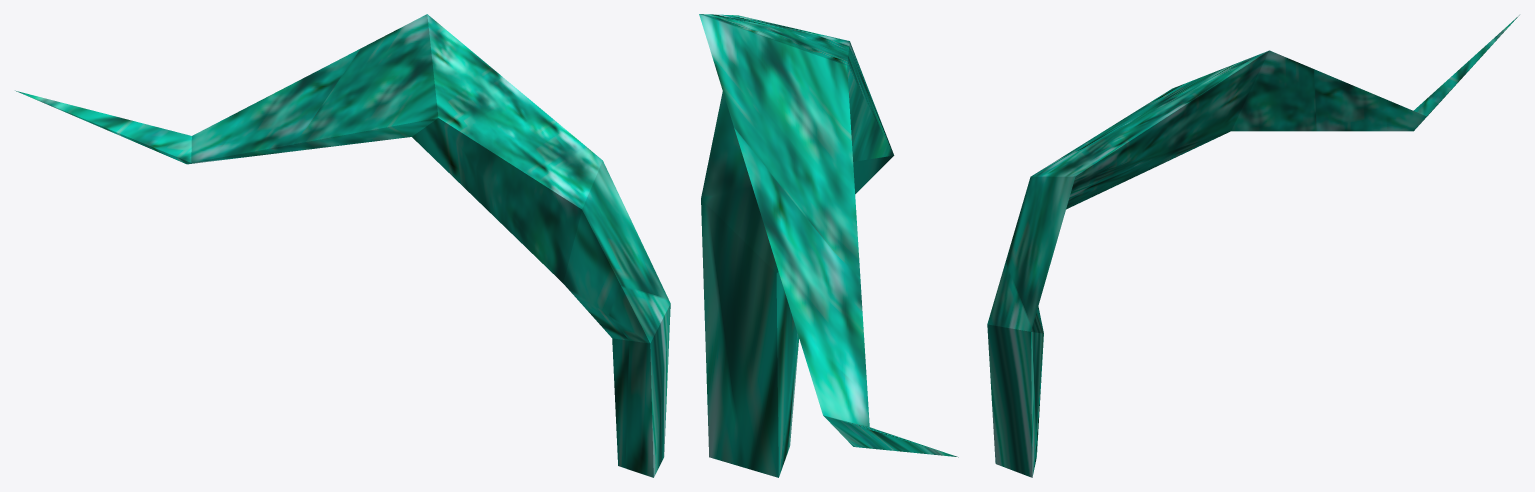
File: H1_BluePlant_Branch_17.gltf
3 views of the same model, side by side, from view 1: azimuth 30°, elevation 25°; view 2: azimuth 150°, elevation 25°; view 3: azimuth 270°, elevation 25° (orthographic). The views are drawn at different scales.
Visible parts, largest first — view 1: H1_BluePlant_Branch_17; view 2: H1_BluePlant_Branch_17; view 3: H1_BluePlant_Branch_17.
Boxes of the visible parts, x1,y1,x2,y2 form: H1_BluePlant_Branch_17: [15, 14, 670, 477]; H1_BluePlant_Branch_17: [699, 14, 958, 477]; H1_BluePlant_Branch_17: [987, 15, 1519, 477].
Bounding box in the file's own units: 3.21 × 2.89 × 3.75.
Materials: 1 (1 with a texture image).
